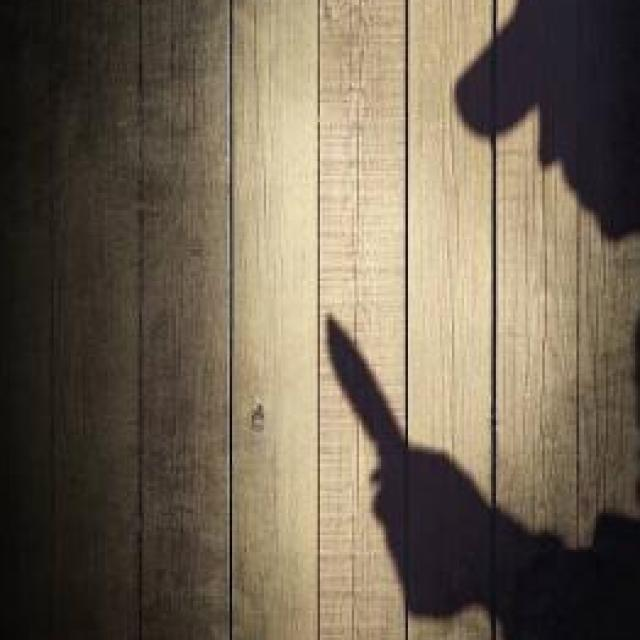knife: (322, 306, 425, 498)
